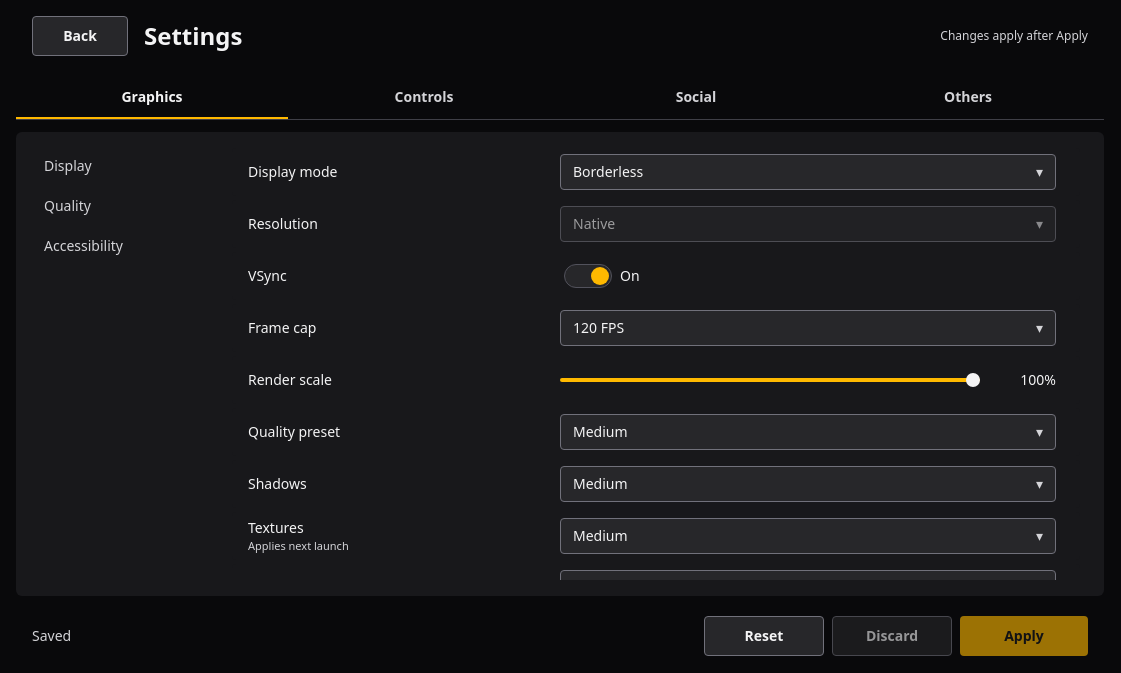
Test case: SettingsScreen › Discard clears the draft
What coordinates should you click on to do the following:
click the switch named "VSync"
I would click on:
 (606, 276)
Its box is x1=560 y1=258 x2=652 y2=294.
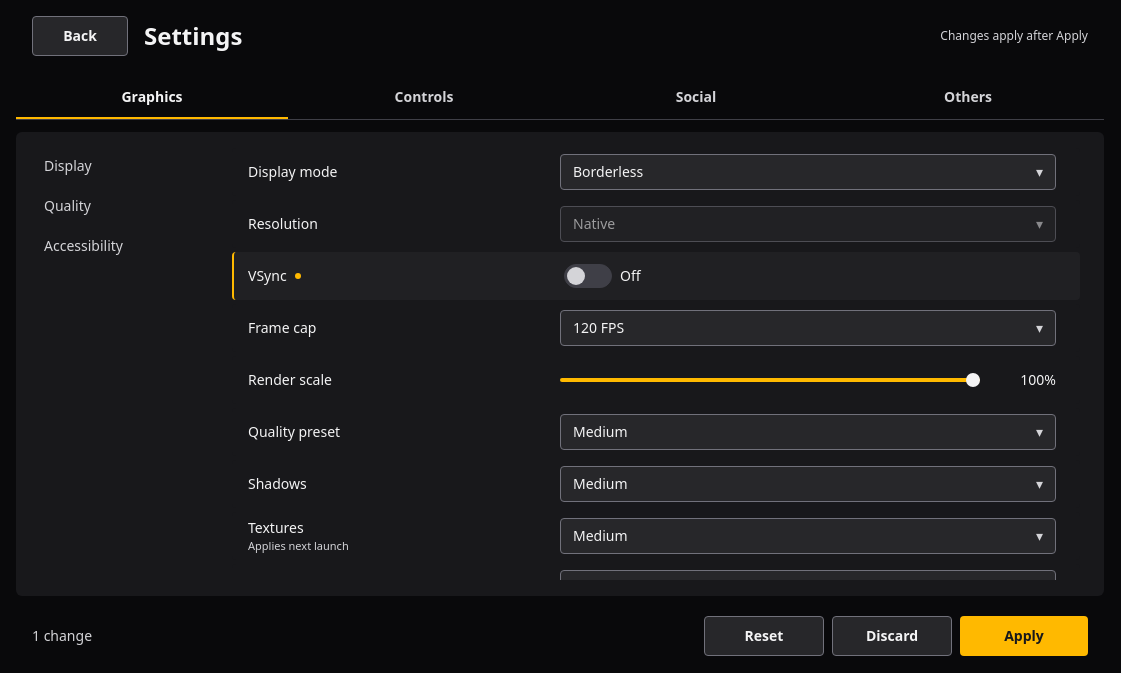
What coordinates should you click on to do the following:
click the button "Discard"
I would click on:
 (892, 636)
Its box is x1=832 y1=616 x2=952 y2=656.
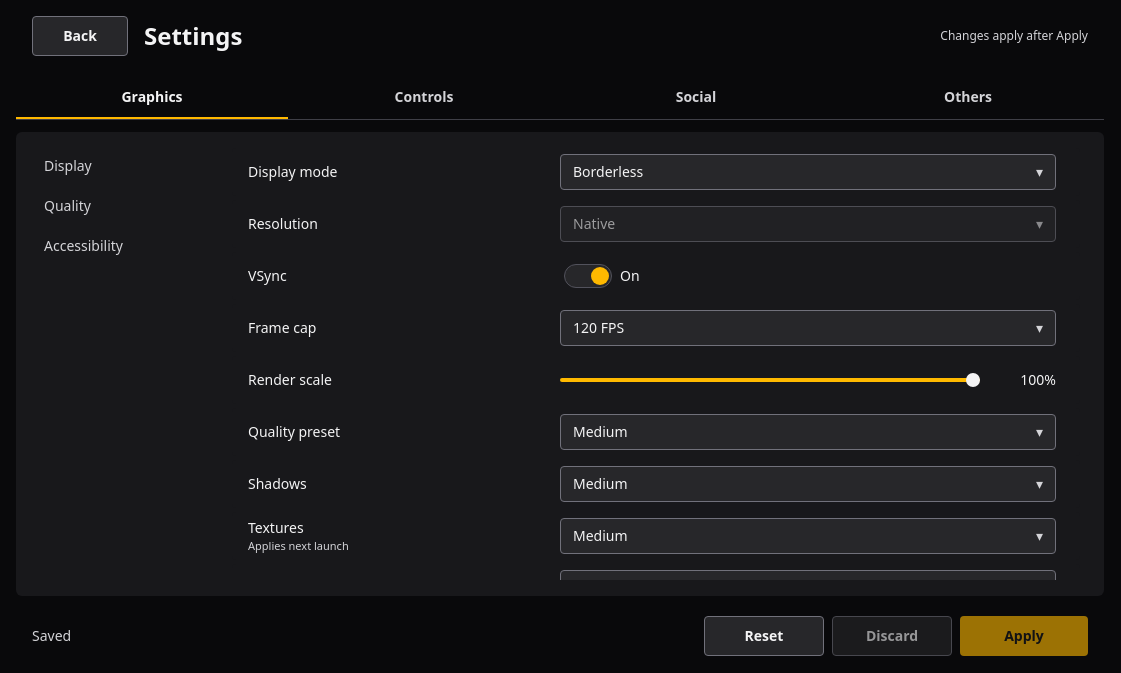
Expected: the text "Saved" is shown, x1=32 y1=626 x2=71 y2=645
